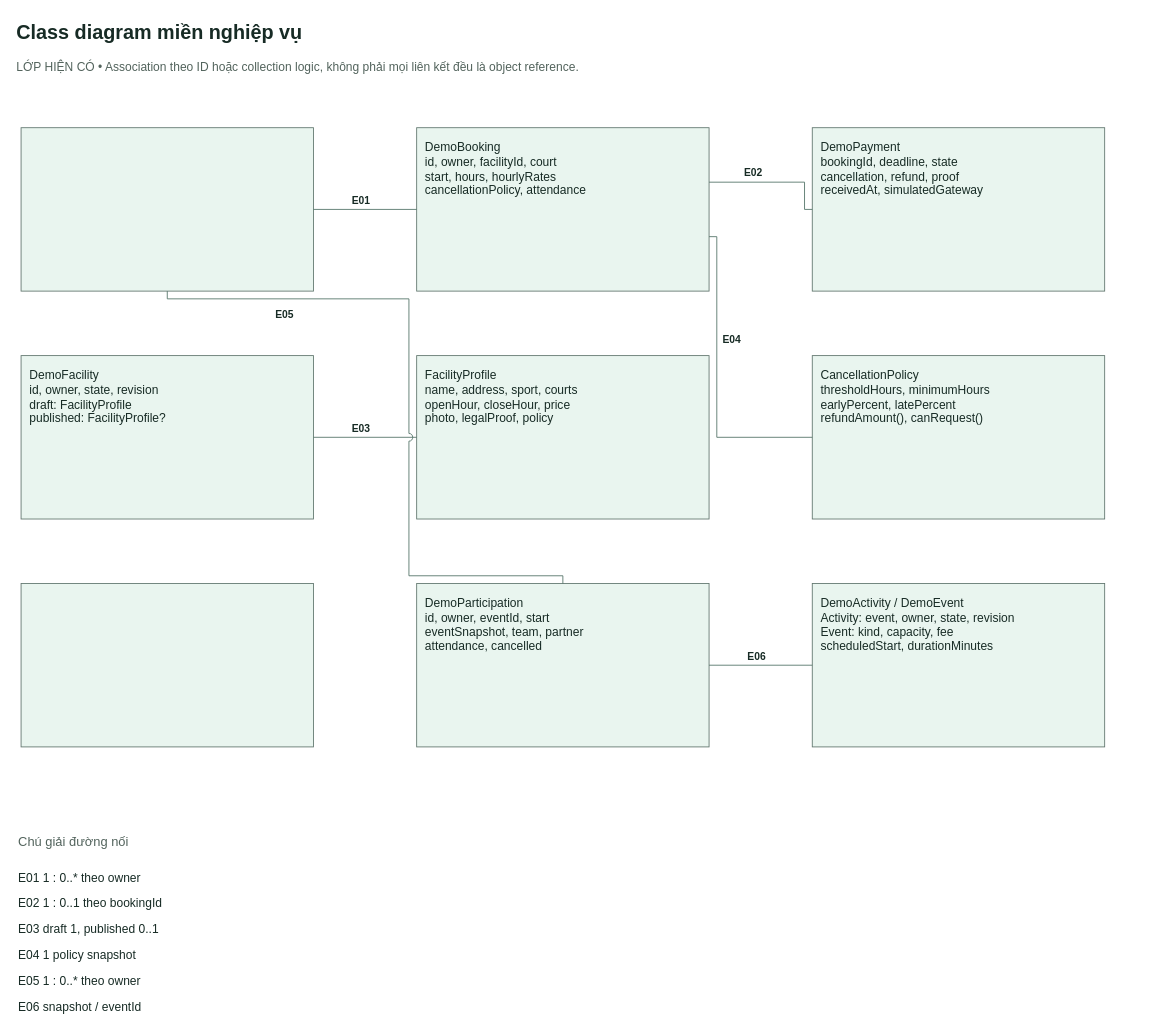
Image size: 1168x1032. Some labels were removed from this diagram. Here are the shapes that lost their labels. From the top down, the centre of each, then its label:
At (166,209): "DemoUser name, identifier, role role: player | owner | admin".
At (166,665): "DemoEmployeeAccess password, permissions facilityIds, revision".
